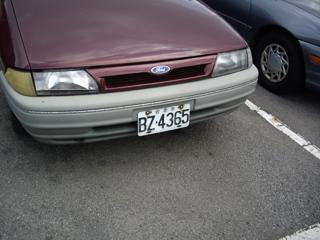plate: (135, 103, 191, 134)
